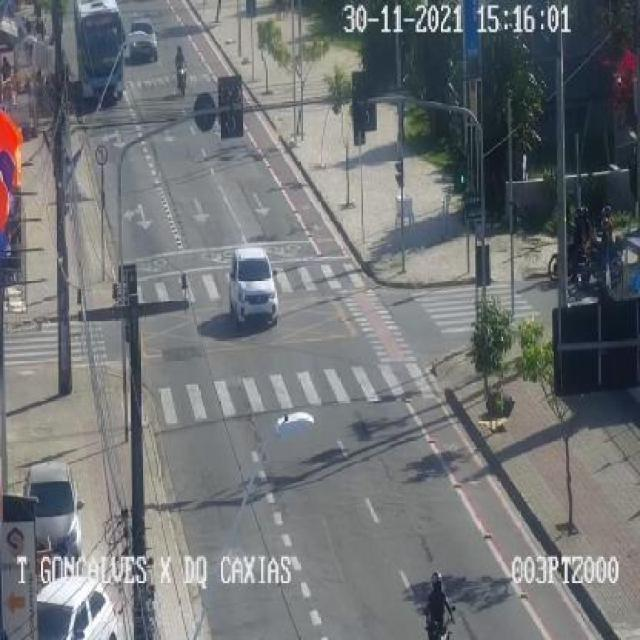Bus: (74, 0, 126, 102)
Car: (228, 246, 282, 322), (130, 21, 160, 62)
Cycle: (174, 45, 188, 94)
